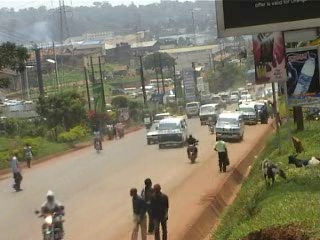Car: (145, 117, 162, 148), (151, 110, 175, 130), (200, 96, 214, 106), (229, 94, 236, 104)
Motorcycle: (33, 190, 67, 237), (181, 133, 199, 164), (144, 112, 155, 132)
